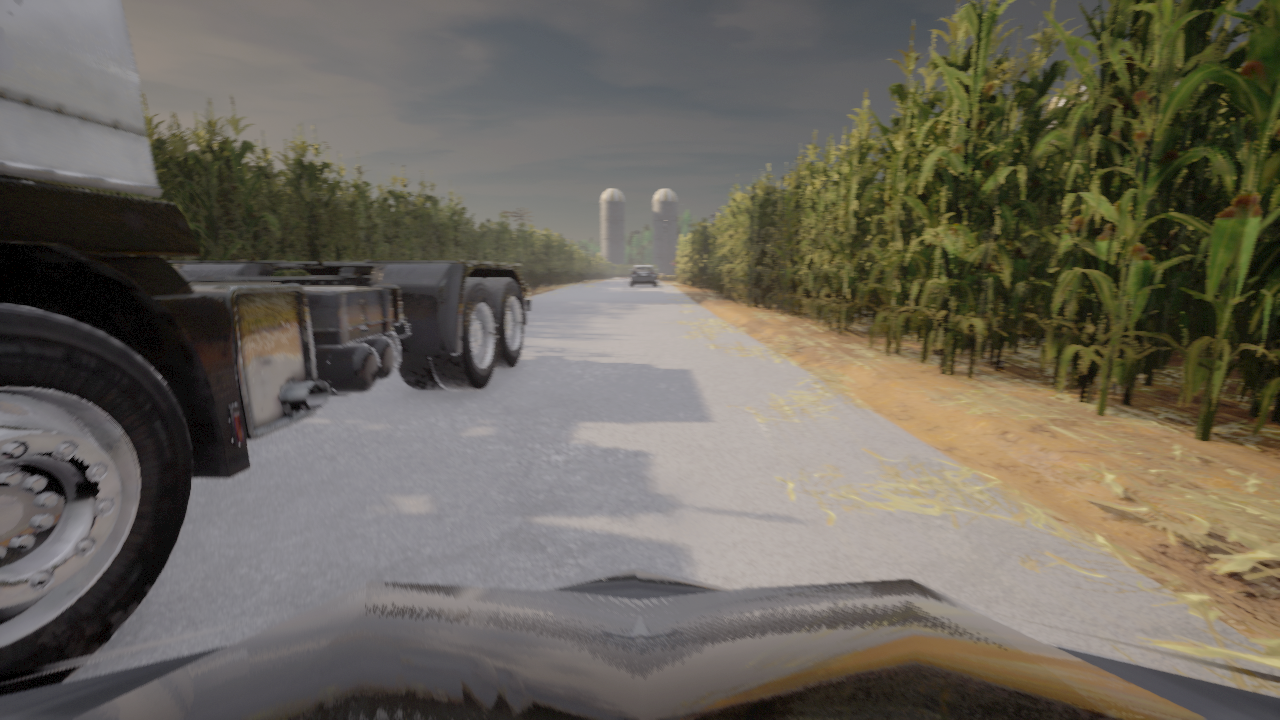cyclist: (0, 0, 531, 696), (0, 569, 1279, 719), (630, 265, 656, 285)
